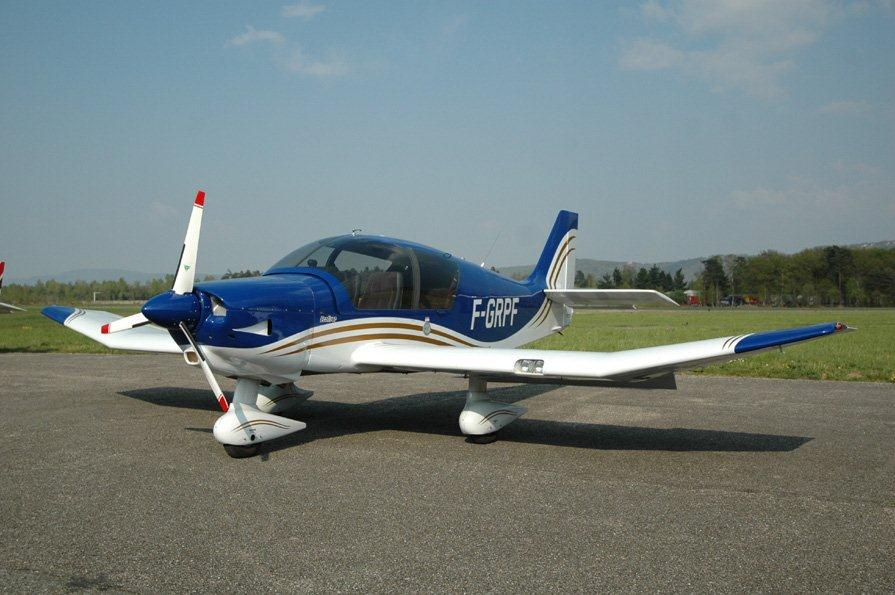Aeronef_de_loisir: (31, 177, 876, 460)
